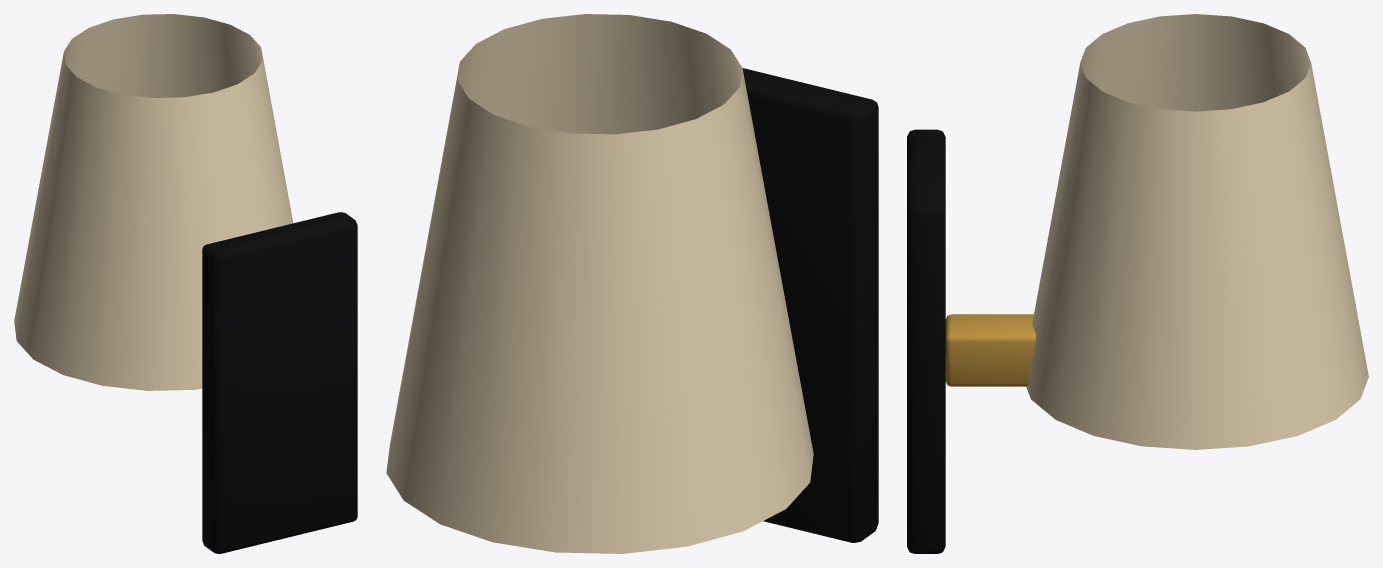
Rendered from Light_Wall_Sconce.glb.
The picture shows the model from 3 angles, left to right: view 1: azimuth 30°, elevation 25°; view 2: azimuth 150°, elevation 25°; view 3: azimuth 270°, elevation 25°; orthographic projection. The views are drawn at different scales.
Visible parts, largest first — view 1: Light_Wall_Sconce; view 2: Light_Wall_Sconce; view 3: Light_Wall_Sconce.
Part boxes in pixels (<box>): Light_Wall_Sconce: <box>14,14,357,553</box>; Light_Wall_Sconce: <box>386,14,878,553</box>; Light_Wall_Sconce: <box>907,14,1368,553</box>.
Bounding box in the file's own units: 0.18 × 0.26 × 0.24.
